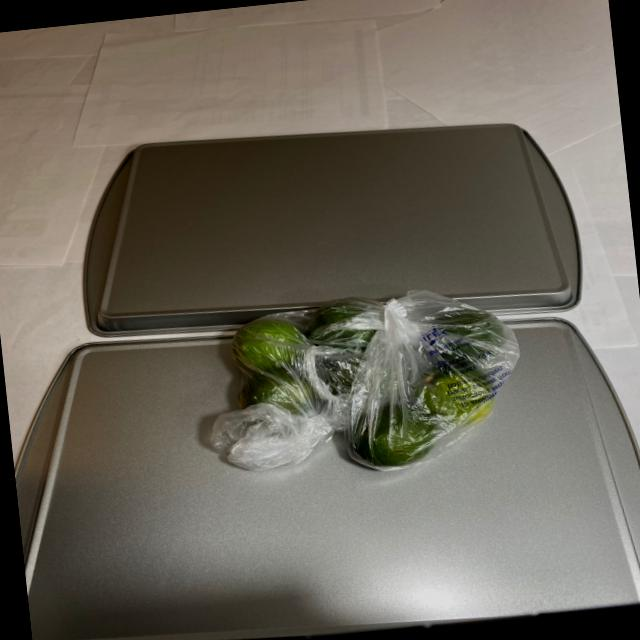lemon: (216, 285, 514, 477)
